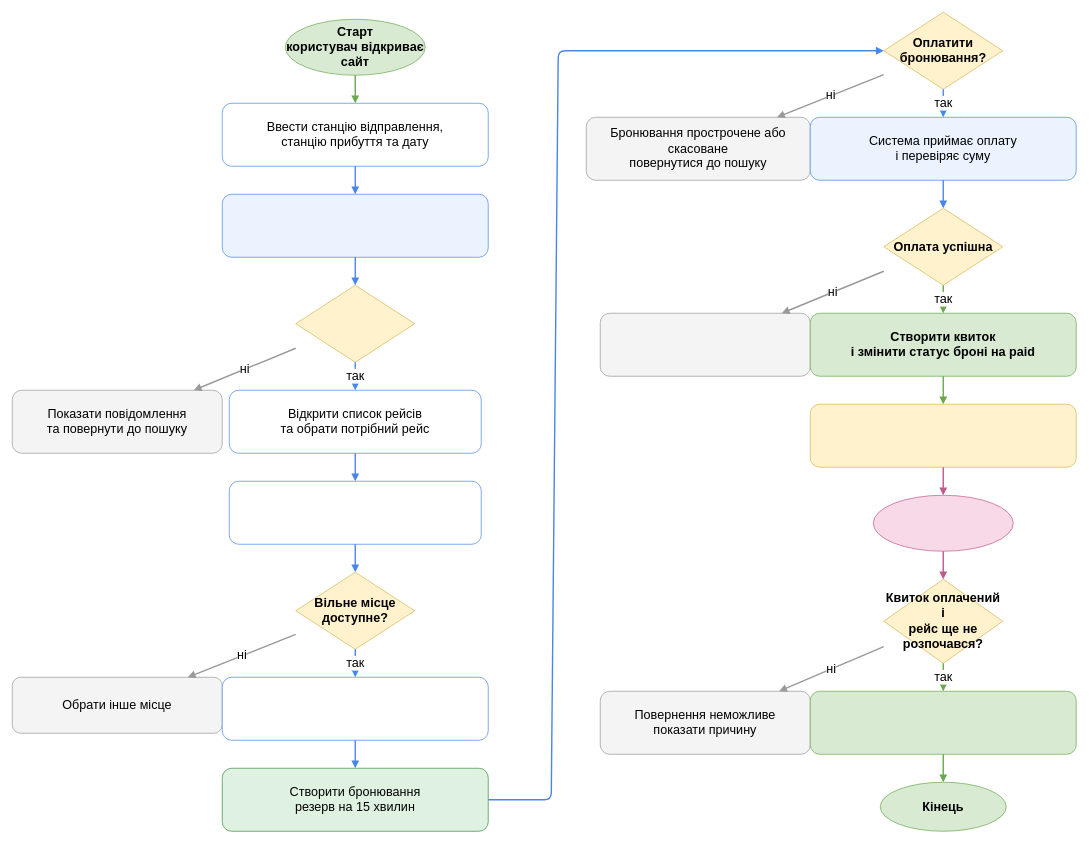
Image size: 1089x844. Some labels were removed from this diagram. The shapes that lost their labels are listed below. From the top down, each one's box as (x1, y1, x2, y2) in pixels, then its label:
(222, 194, 488, 257): Система перевіряє параметри та шукає доступні рейси
(295, 285, 415, 362): Рейси знайдено?
(600, 313, 810, 376): Показати помилку та повторити оплату
(810, 404, 1076, 467): Квиток доступний в особистому кабінеті
(229, 481, 481, 544): Відкрити схему місць потяга
(873, 495, 1013, 551): Повернення квитка
(222, 677, 488, 740): Увійти або зареєструватися якщо користувач ще не авторизований
(810, 691, 1076, 754): Створити повернення оновити ticket, booking і payment
